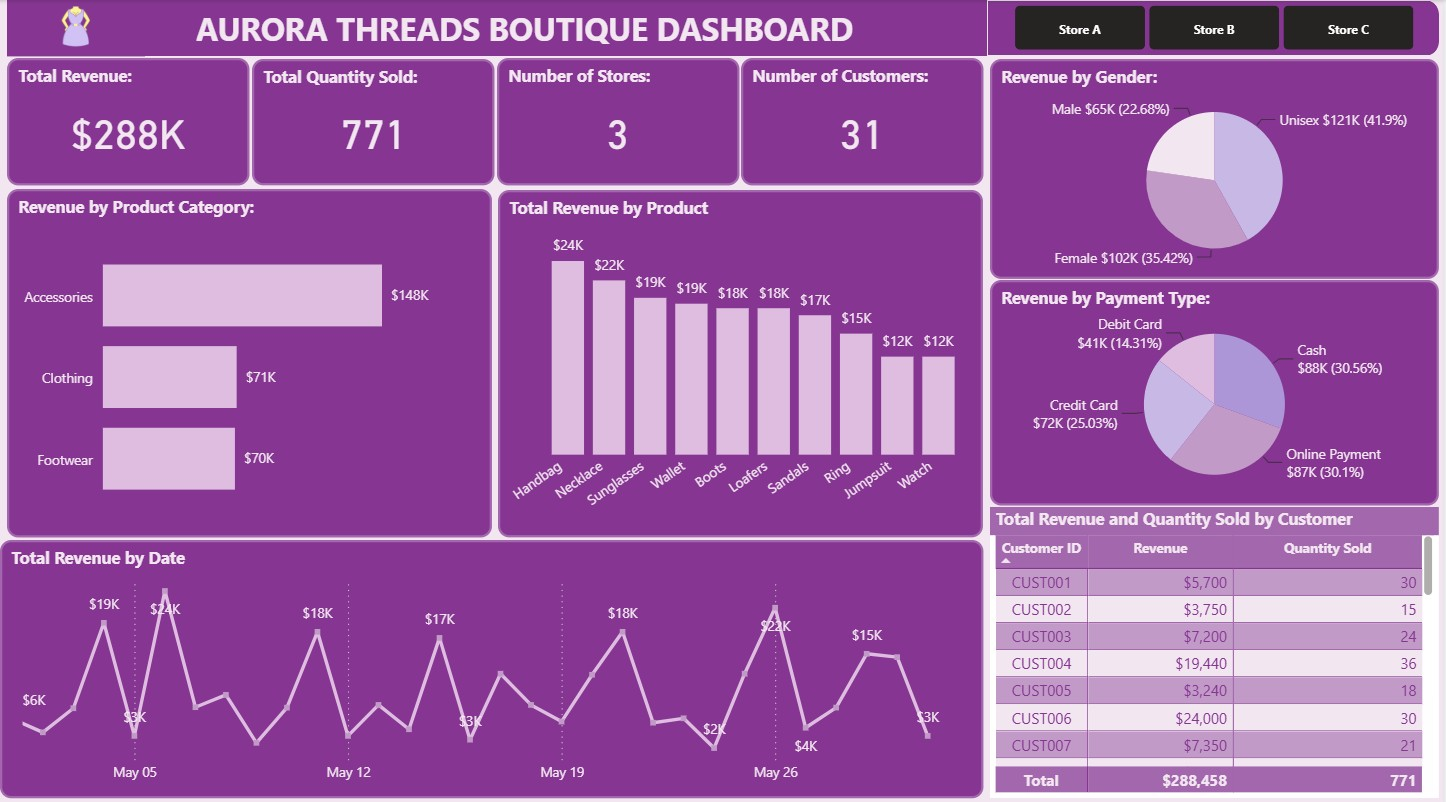

Layout of this report page (visuals, bound fields, positions):
{"tool":"powerbi","page":{"name":"Aurora Report Page","canvas":[1280,720],"ordinal":0},"visuals":[{"type":"cardVisual","title":"Total Revenue:","fields":{"Data":["Sum(AuroraData.Revenue)"]},"box":[6.2,51.4,215,112.6],"z":0},{"type":"cardVisual","title":"Total Quantity Sold:","fields":{"Data":["Sum(AuroraData.Quantity)"]},"box":[223.3,52.1,215,111.9],"z":1000},{"type":"cardVisual","title":"Number of Stores:","fields":{"Data":["Count(AuroraData.Store)"]},"box":[440.4,51.4,214.6,112.6],"z":2000},{"type":"cardVisual","title":"Number of Customers:","fields":{"Data":["Count(AuroraData.Customer ID)"]},"box":[657,51.4,214.6,112.6],"z":3000},{"type":"barChart","title":"Revenue by Product Category:","fields":{"Y":["Sum(AuroraData.Revenue)"],"Category":["AuroraData.Category"]},"box":[6.2,167.6,430,308.6],"z":4000},{"type":"columnChart","title":"Total Revenue by Product","fields":{"Y":["Sum(AuroraData.Revenue)"],"Category":["AuroraData.Product"]},"box":[441.6,168.5,430,307.7],"z":5000},{"type":"lineChart","title":"Total Revenue by Date","fields":{"Y":["Sum(AuroraData.Revenue)"],"Category":["AuroraData.Date"]},"box":[0,478.8,871.6,228.8],"z":6000},{"type":"pieChart","title":"Revenue by Gender:","fields":{"Category":["AuroraData.Gender"],"Y":["Sum(AuroraData.Revenue)"]},"box":[877.8,52.3,398,195.1],"z":7000},{"type":"pieChart","title":"Revenue by Payment Type:","fields":{"Category":["AuroraData.Payment Type"],"Y":["Sum(AuroraData.Revenue)"]},"box":[877.8,248.3,398,200.4],"z":8000},{"type":"pivotTable","title":"Total Revenue and Quantity Sold by Customer","fields":{"Values":["Sum(AuroraData.Revenue)","Sum(AuroraData.Quantity)"],"Rows":["AuroraData.Customer ID"]},"box":[877.8,449.6,398,258],"z":9000},{"type":"shape","box":[70,0,1205.9,49.7],"z":10000},{"type":"image","box":[6.2,0,122.4,49.7],"z":11000},{"type":"advancedSlicerVisual","fields":{"Values":["AuroraData.Store"]},"box":[875.2,0,405.2,49.7],"z":12000}]}

Visuals, with their boxes in screenshot pixels (x1, y1, x2, y2), scaled from the page's 1280x720 canvas onto the 1446x802 screenshot:
"Total Revenue:" cardVisual: [7, 57, 250, 183]
"Total Quantity Sold:" cardVisual: [252, 58, 495, 183]
"Number of Stores:" cardVisual: [498, 57, 740, 183]
"Number of Customers:" cardVisual: [742, 57, 985, 183]
"Revenue by Product Category:" barChart: [7, 187, 493, 530]
"Total Revenue by Product" columnChart: [499, 188, 985, 530]
"Total Revenue by Date" lineChart: [0, 533, 985, 788]
"Revenue by Gender:" pieChart: [992, 58, 1441, 276]
"Revenue by Payment Type:" pieChart: [992, 277, 1441, 500]
"Total Revenue and Quantity Sold by Customer" pivotTable: [992, 501, 1441, 788]
shape: [79, 0, 1441, 55]
image: [7, 0, 145, 55]
advancedSlicerVisual - AuroraData.Store: [989, 0, 1445, 55]
